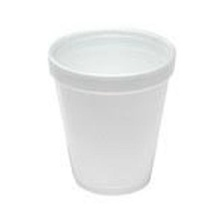paper_cup: (42, 22, 180, 201)
